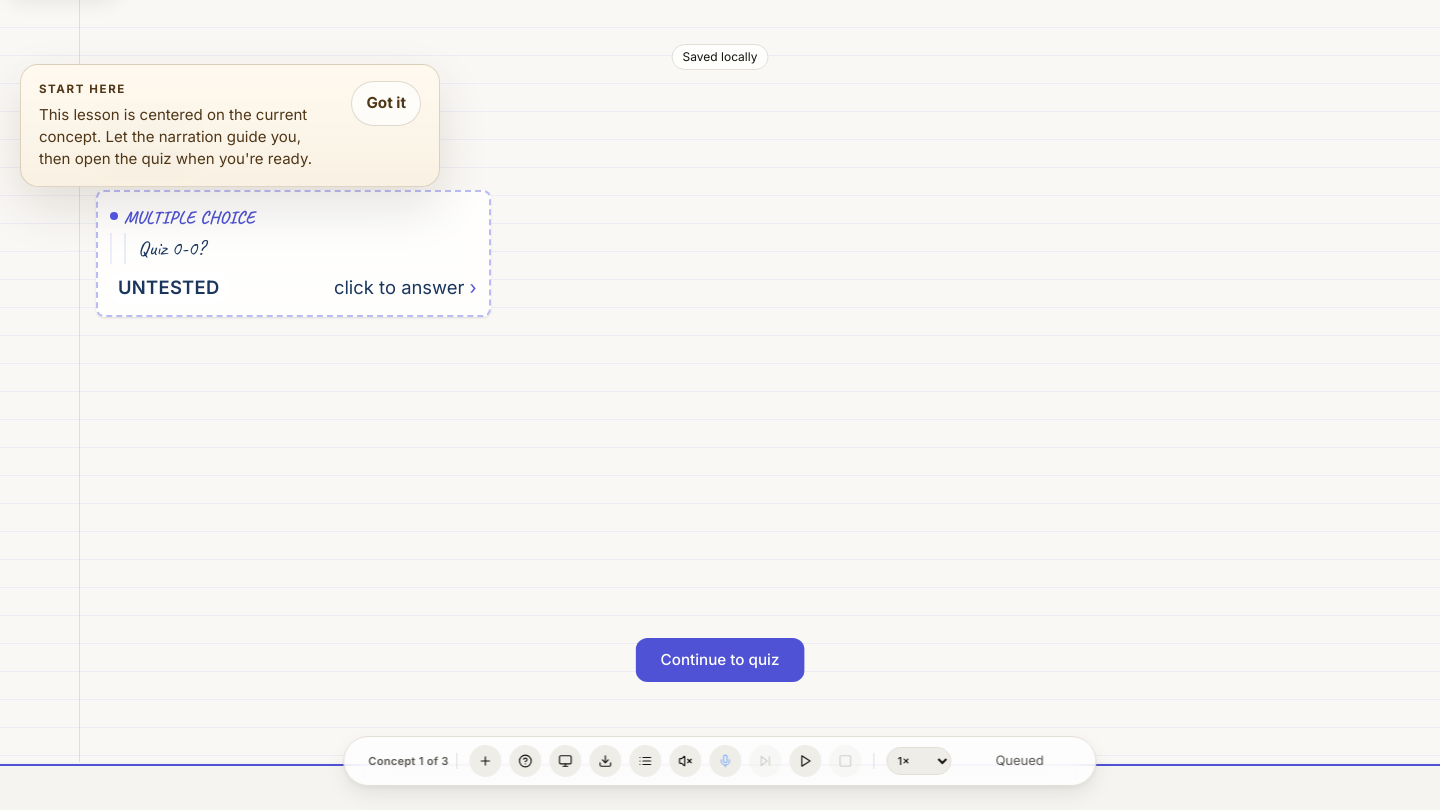
Test: CanvasPage › learning cue › shows start cue when no lastConceptId
This screenshot has width=1440, height=810.
Click the button "Got it" at (386, 103), box [351,81,421,126]
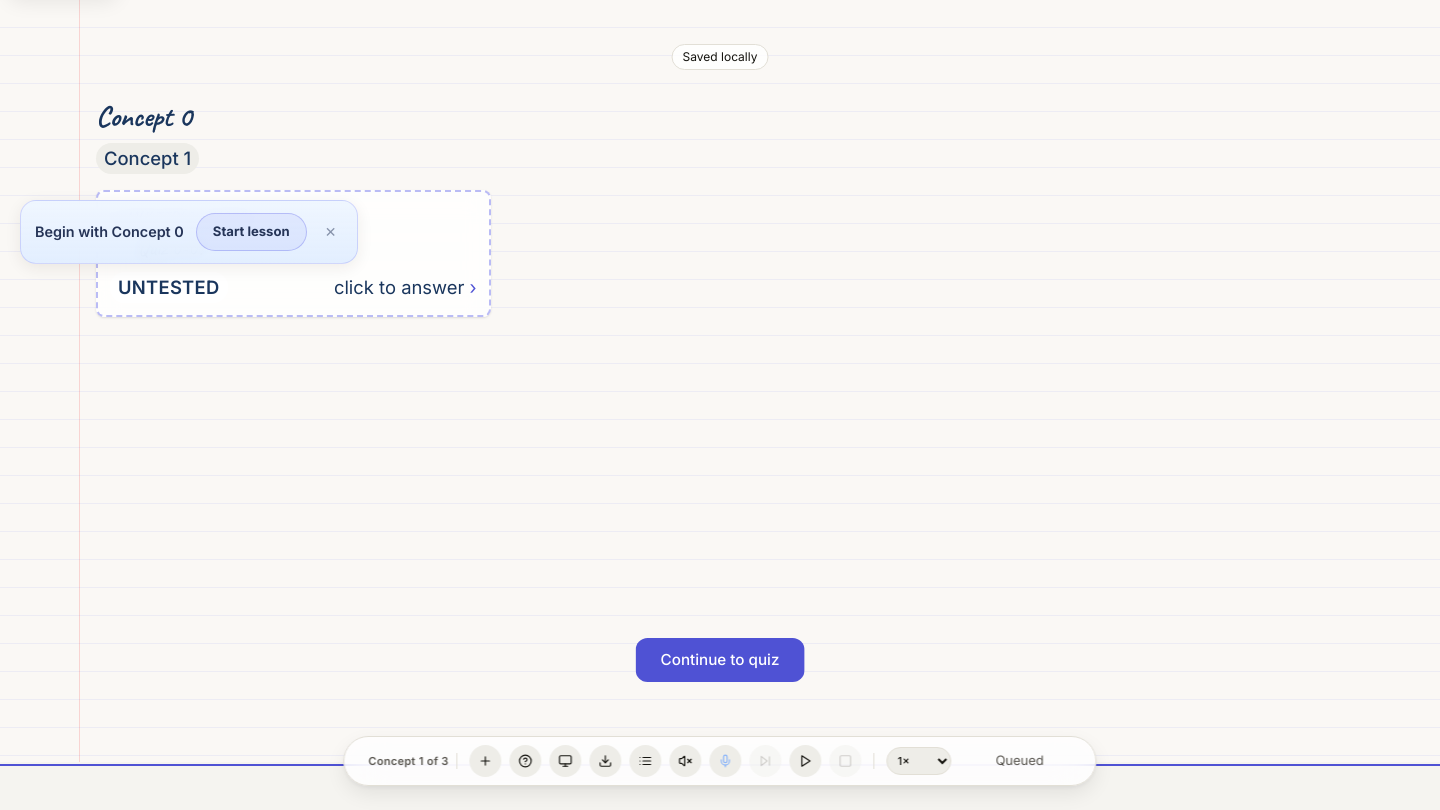
Now the text "Begin with Concept 0" is shown, box [35,222,184,242]
Now the button "Start lesson" is shown, box [196,213,307,251]
